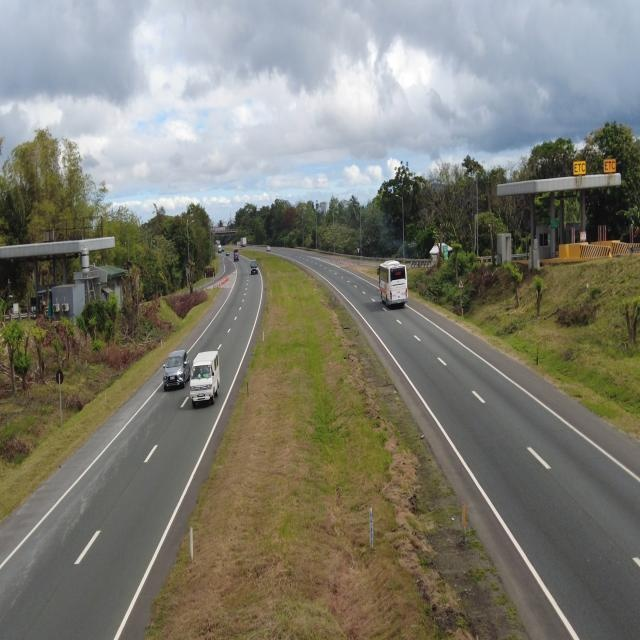Bus: (374, 258, 420, 316)
